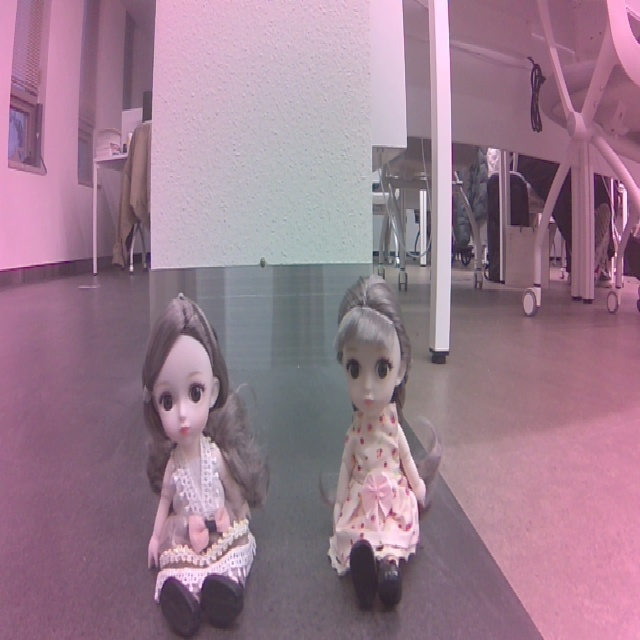장애물: (147, 275, 319, 592), (398, 252, 555, 585)
